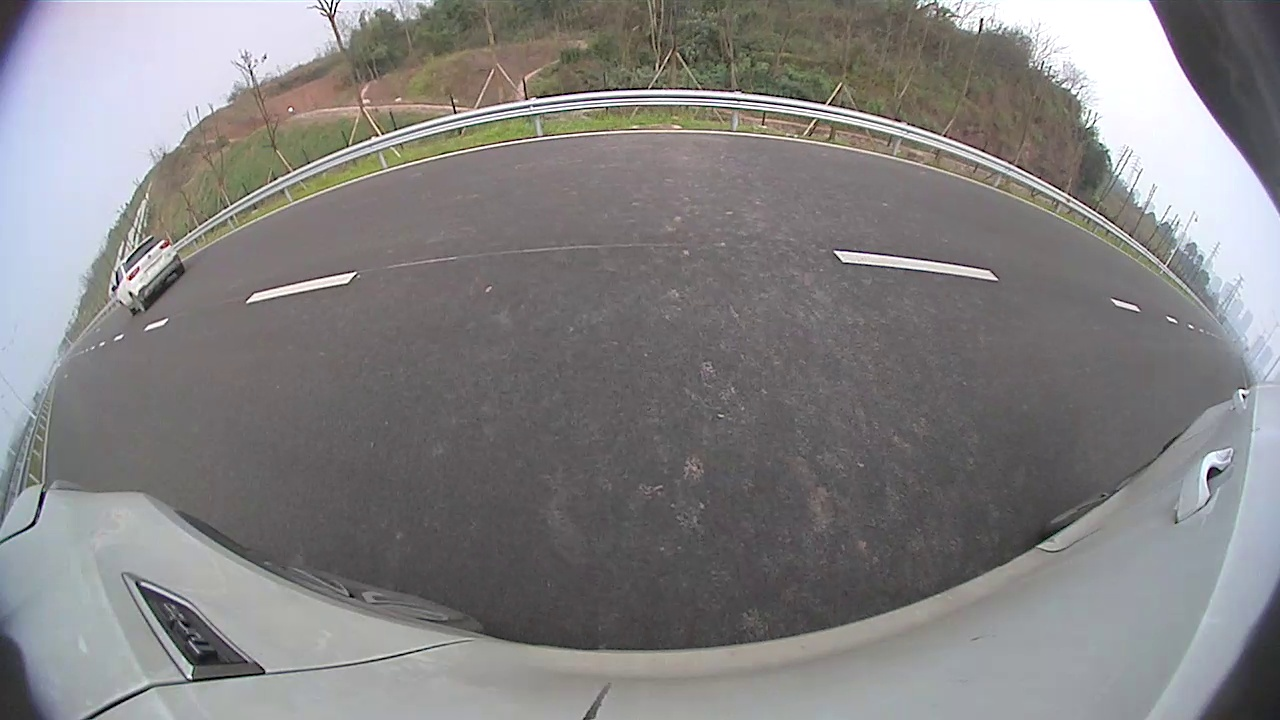car: (523, 154, 586, 198)
rear: (566, 176, 574, 193)
